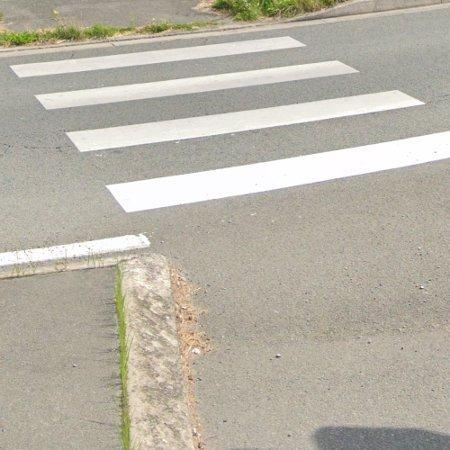crosswalks: (9, 36, 450, 212)
